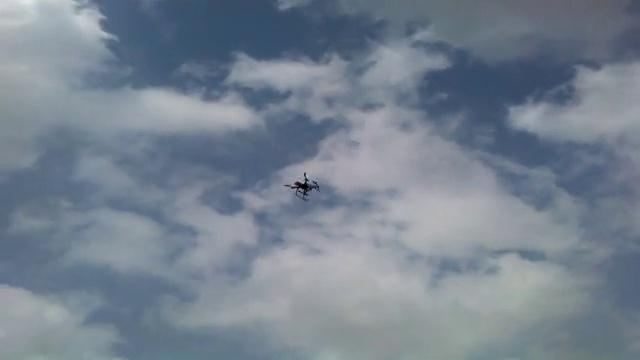drone: (283, 169, 322, 201)
